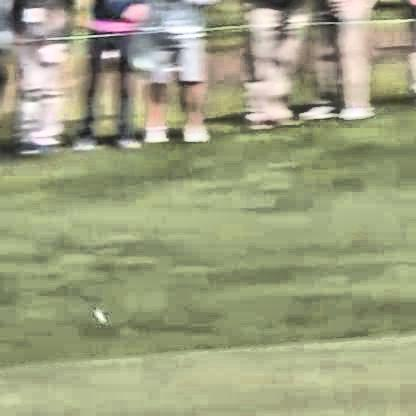golfball: (90, 307, 108, 323)
